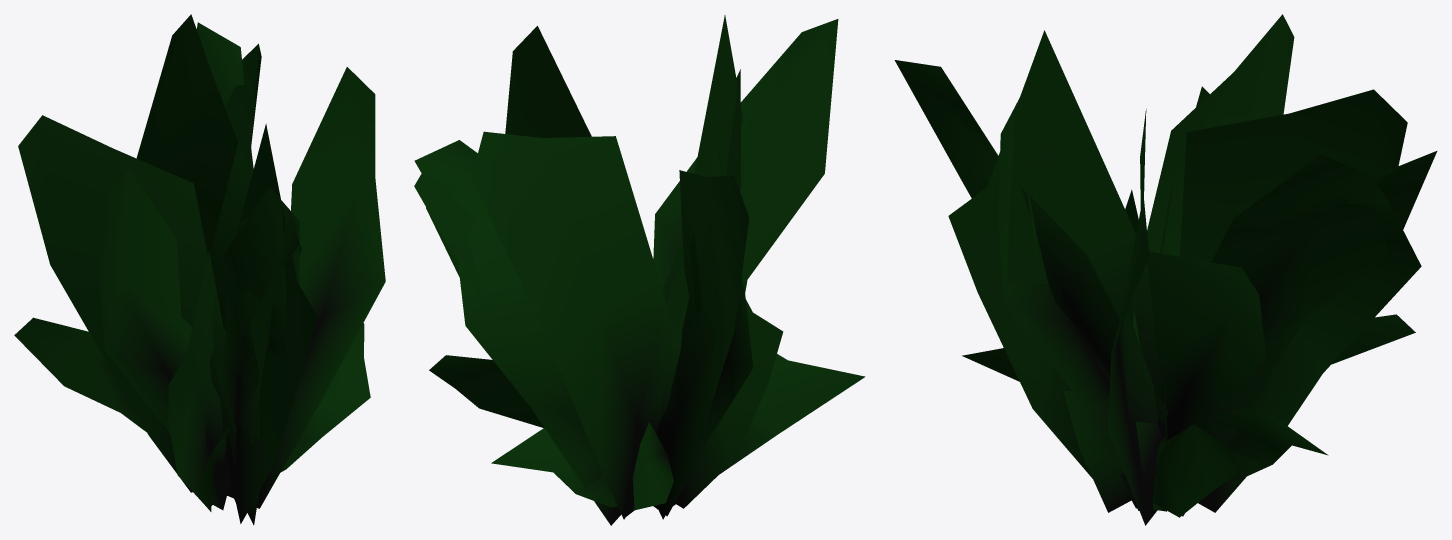
File: GrassTallDryGCATA_G.fbx
The picture shows the model from 3 angles, left to right: view 1: azimuth 30°, elevation 25°; view 2: azimuth 150°, elevation 25°; view 3: azimuth 270°, elevation 25°; orthographic projection. The views are drawn at different scales.
Visible parts, largest first — view 1: GTDG_LOD0; view 2: GTDG_LOD0; view 3: GTDG_LOD0.
Boxes of the visible parts, box(x1,y1,x2,y2) form: GTDG_LOD0: box(14, 14, 385, 525); GTDG_LOD0: box(414, 15, 865, 525); GTDG_LOD0: box(894, 14, 1437, 525).
Size of what is drawn, in the model's own units: 1.46 by 1.87 by 1.93.
